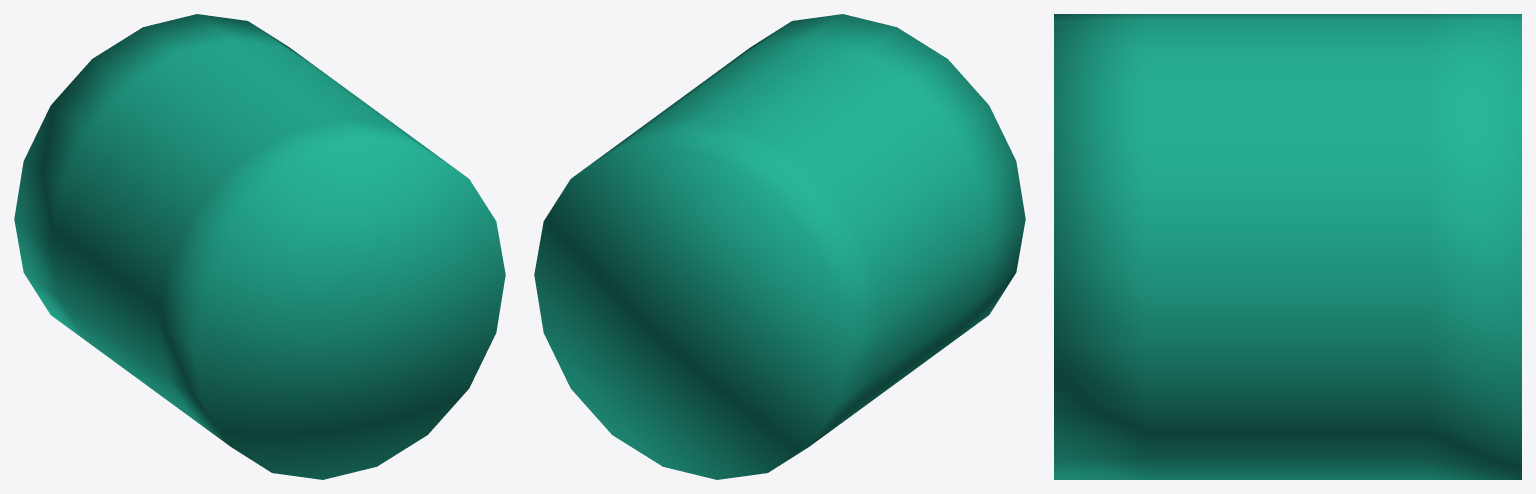
The model's file is basicCylinder.obj.
3 views of the same model, side by side, from view 1: azimuth 30°, elevation 25°; view 2: azimuth 150°, elevation 25°; view 3: azimuth 270°, elevation 25° (orthographic). The views are drawn at different scales.
Parts seen in each view (by area): view 1: Cylinder001; view 2: Cylinder001; view 3: Cylinder001.
Part boxes in pixels (<box>): Cylinder001: <box>14,14,505,479</box>; Cylinder001: <box>534,14,1025,479</box>; Cylinder001: <box>1054,14,1521,479</box>.
Bounding box in the file's own units: 20 × 19.7 × 20.
